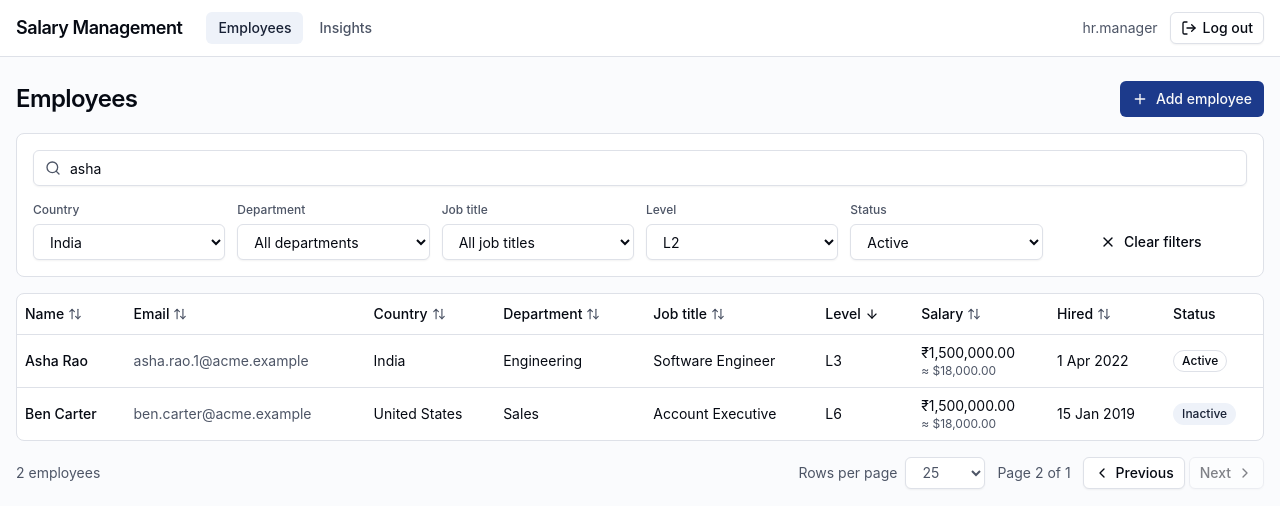
Test: employee directory › filters › clears all filters but keeps the sorting
The image size is (1280, 506).
Expected: the link "Asha Rao" is shown, [25,352,88,368]
Click the button "Clear filters" at (1151, 242), box [1055,224,1247,260]
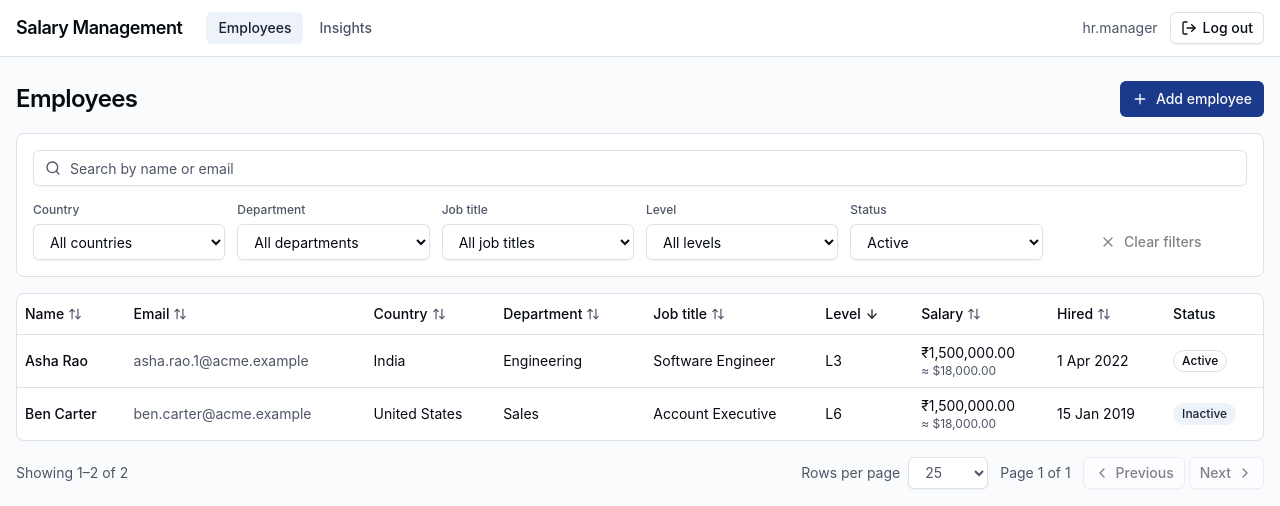
Now the search field named "Search employees" is empty, box [33,150,1247,186]
Now the dropdown labelled "Country" shows "All countries", box [33,224,225,260]
